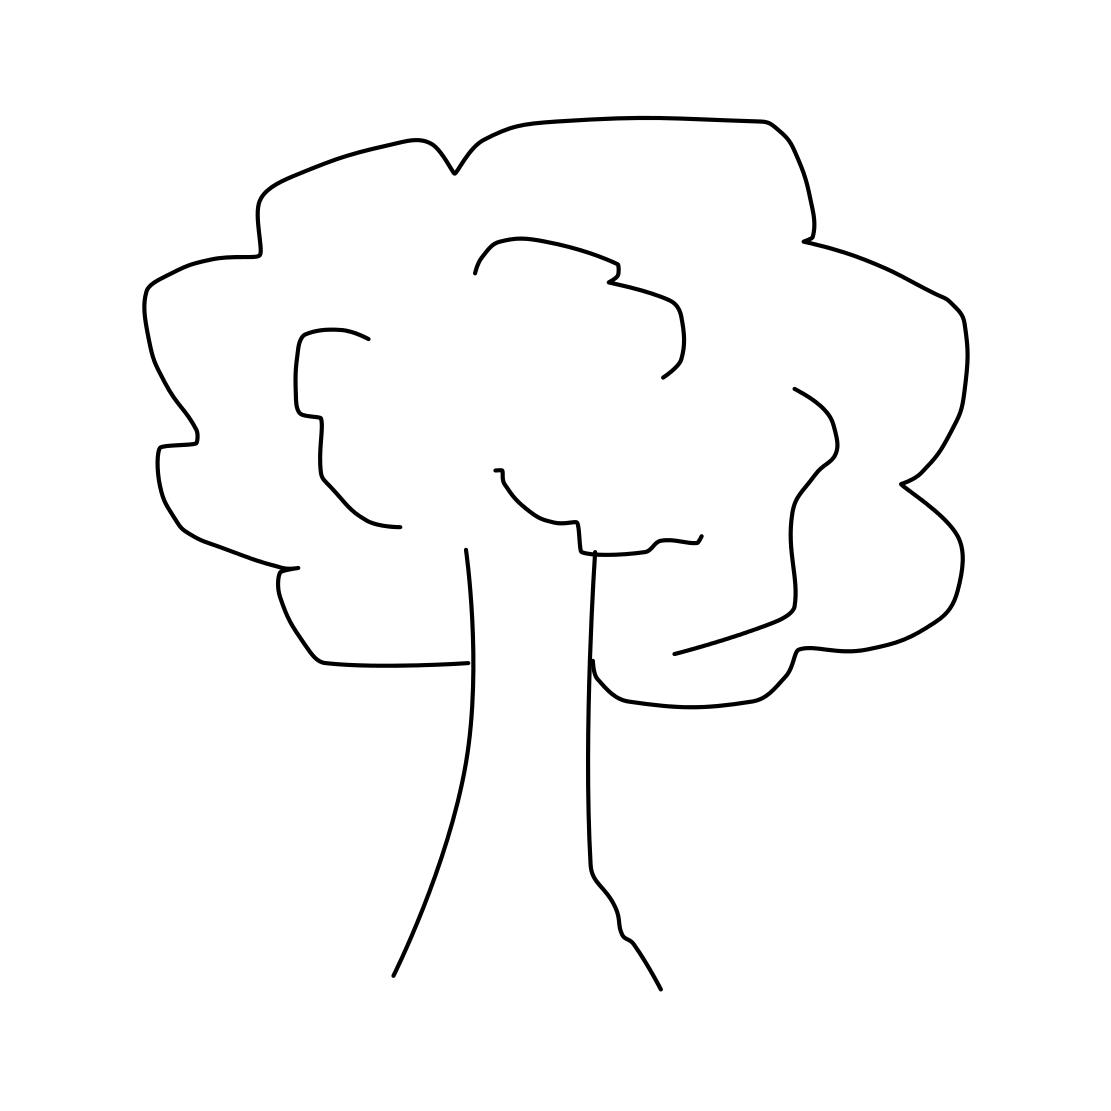Tree: (107, 74, 990, 1005)
